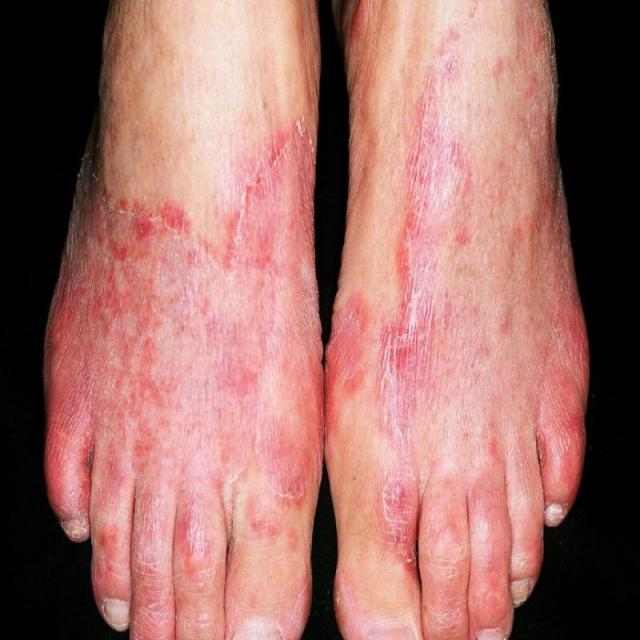tinea: (37, 72, 605, 632)
